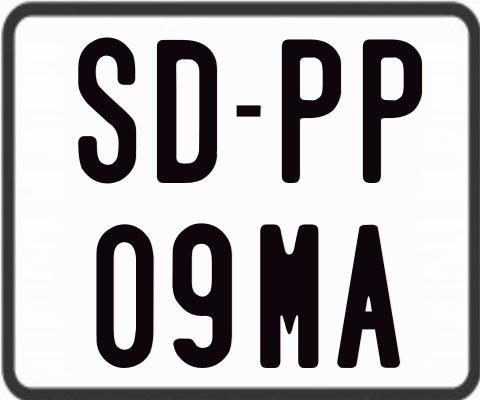0: (95, 224, 158, 372)
9: (169, 221, 231, 371)
A: (334, 225, 397, 368)
D: (154, 37, 218, 181)
M: (259, 224, 319, 372)
P: (361, 38, 425, 182), (280, 39, 341, 189)
S: (75, 34, 139, 183)
